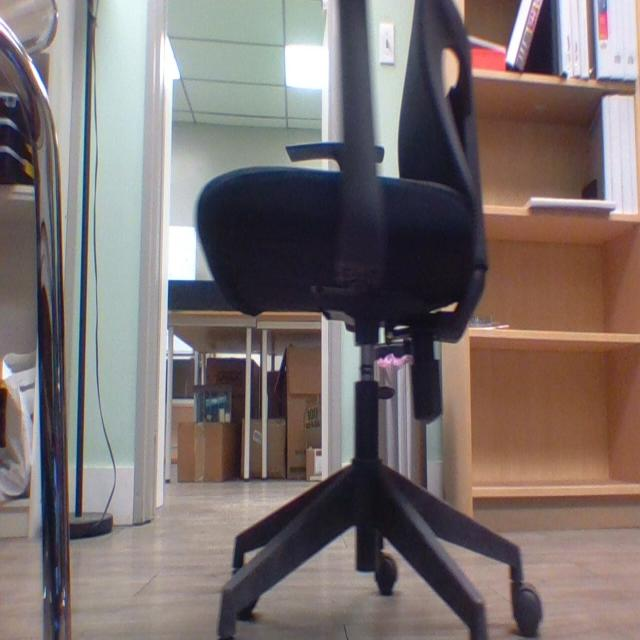black-chair: (200, 3, 544, 639)
